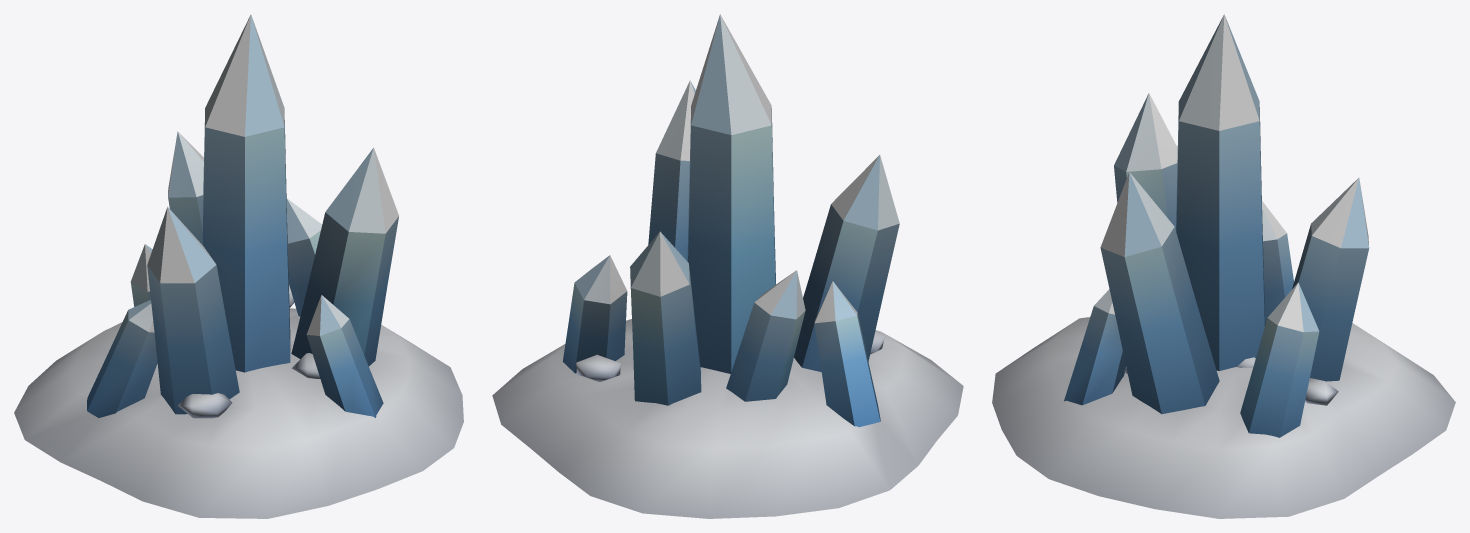
The model's file is prop-scav-iceCrystal-full.glb.
3 renders of one model, left to right at view 1: azimuth 30°, elevation 25°; view 2: azimuth 150°, elevation 25°; view 3: azimuth 270°, elevation 25°, orthographic.
Visible parts, largest first — view 1: body; view 2: body; view 3: body.
Boxes of the visible parts, x1,y1,x2,y2 form: body: [14, 14, 463, 518]; body: [492, 14, 963, 518]; body: [992, 14, 1455, 518].
Size of the model in its own units: 0.9494 by 0.92 by 0.9502.
